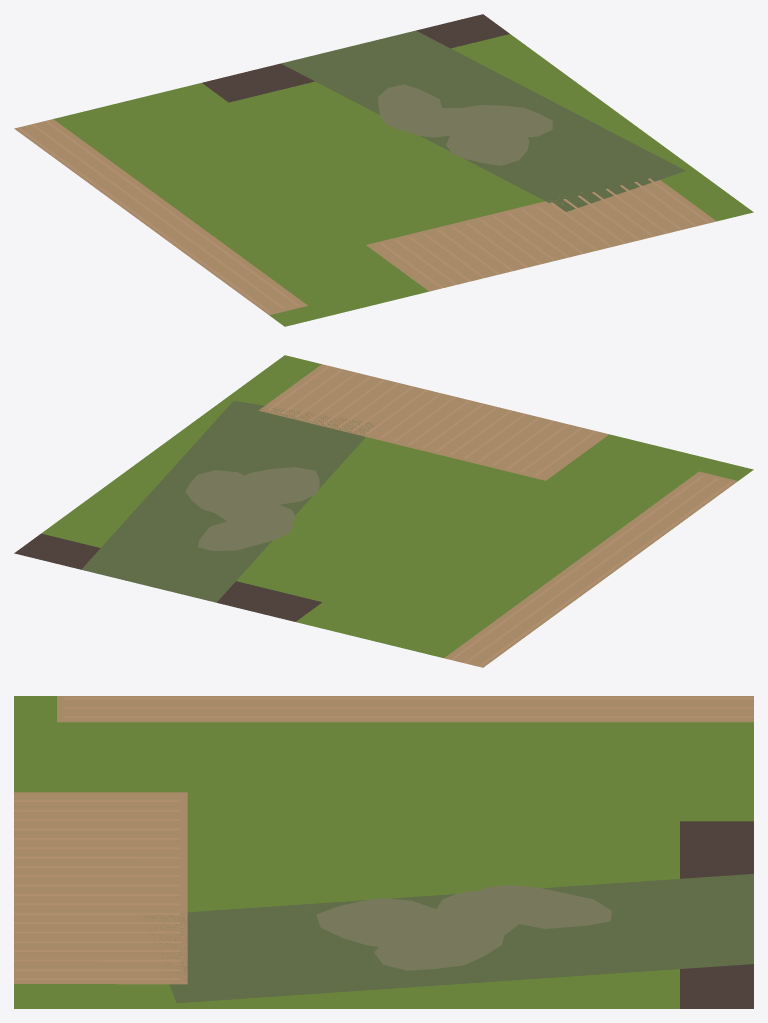
The model's file is crossing-1-5.glb.
3 views of the same model, one above another, from view 1: azimuth 30°, elevation 25°; view 2: azimuth 150°, elevation 25°; view 3: azimuth 270°, elevation 25° (orthographic). The views are drawn at different scales.
Parts seen in each view (by area): view 1: crossing-1-5; view 2: crossing-1-5; view 3: crossing-1-5.
Part boxes in pixels (x1=…): crossing-1-5: x1=14, y1=14, x2=753, y2=326; crossing-1-5: x1=14, y1=355, x2=753, y2=667; crossing-1-5: x1=14, y1=696, x2=753, y2=1008.
Size of the model in its own units: 100 by 0.0064 by 100.
